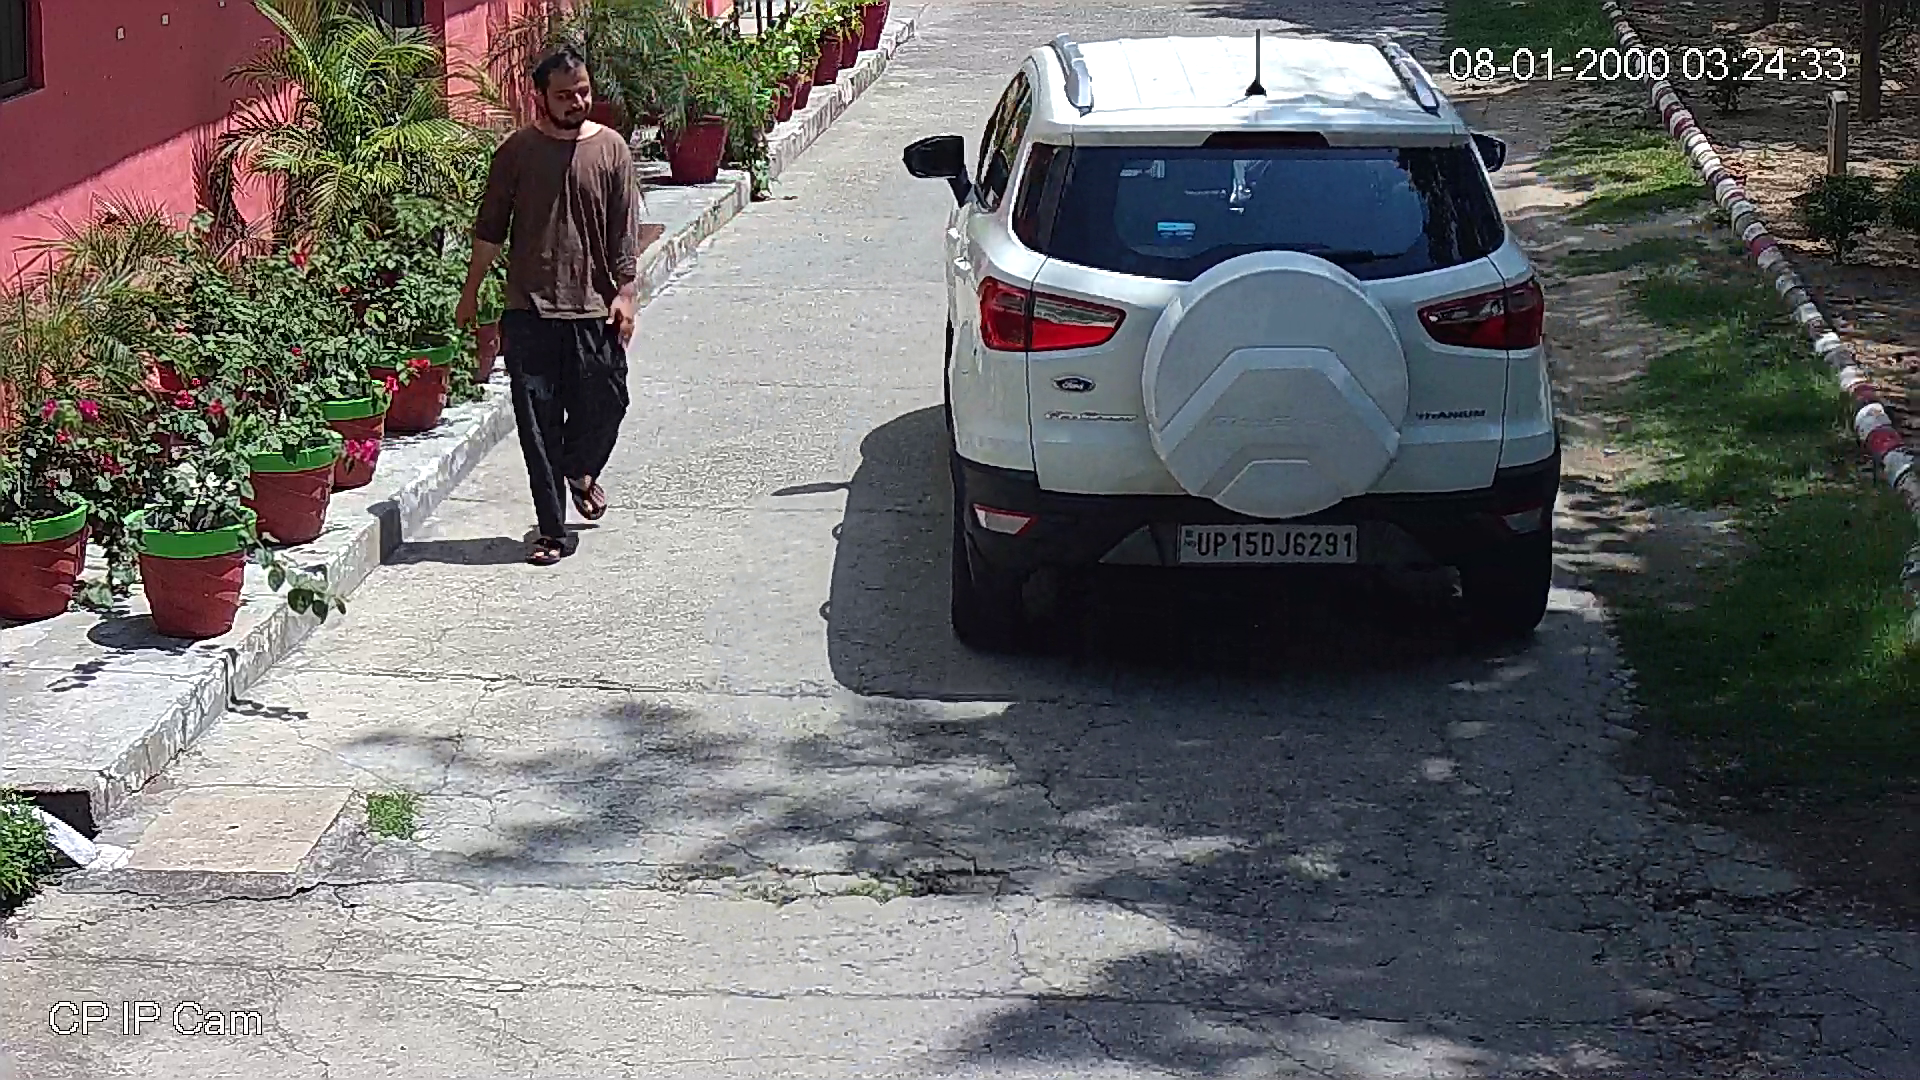plate: (1170, 517, 1361, 572)
